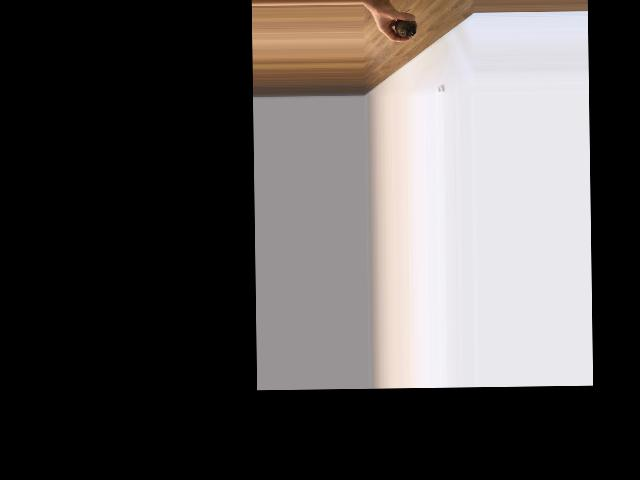beet: (394, 9, 417, 38)
